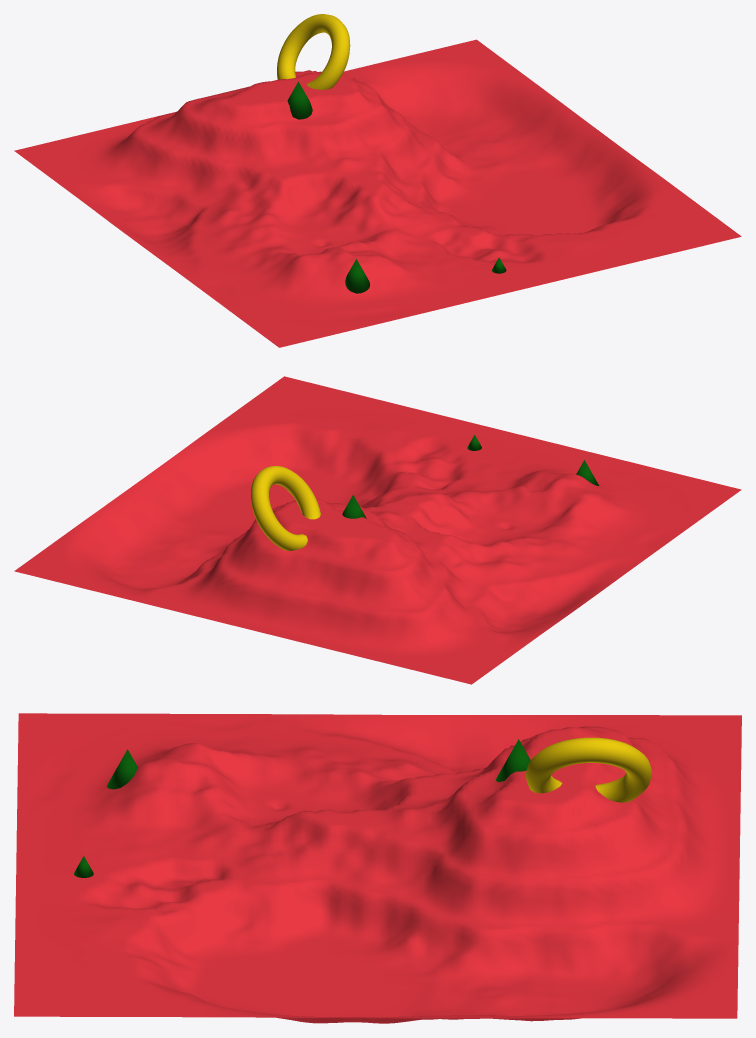
File: decor.gltf
The picture shows the model from 3 angles, top to bottom: view 1: azimuth 30°, elevation 25°; view 2: azimuth 150°, elevation 25°; view 3: azimuth 270°, elevation 25°; orthographic projection. The views are drawn at different scales.
Visible parts, largest first — view 1: Landscape.001, Torus, Cone.002, Cone; view 2: Landscape.001, Torus; view 3: Landscape.001, Torus, Cone.002, Cone.
Boxes of the visible parts, x1=… form: Landscape.001: x1=14, y1=39, x2=741, y2=347; Torus: x1=277, y1=14, x2=350, y2=89; Cone.002: x1=287, y1=81, x2=312, y2=119; Cone: x1=345, y1=259, x2=369, y2=293; Landscape.001: x1=14, y1=376, x2=741, y2=684; Torus: x1=251, y1=466, x2=320, y2=550; Landscape.001: x1=14, y1=713, x2=741, y2=1023; Torus: x1=526, y1=737, x2=651, y2=802; Cone.002: x1=496, y1=739, x2=530, y2=781; Cone: x1=107, y1=749, x2=137, y2=789.
Bounding box in the file's own units: 31.96 × 8.89 × 32.21.
